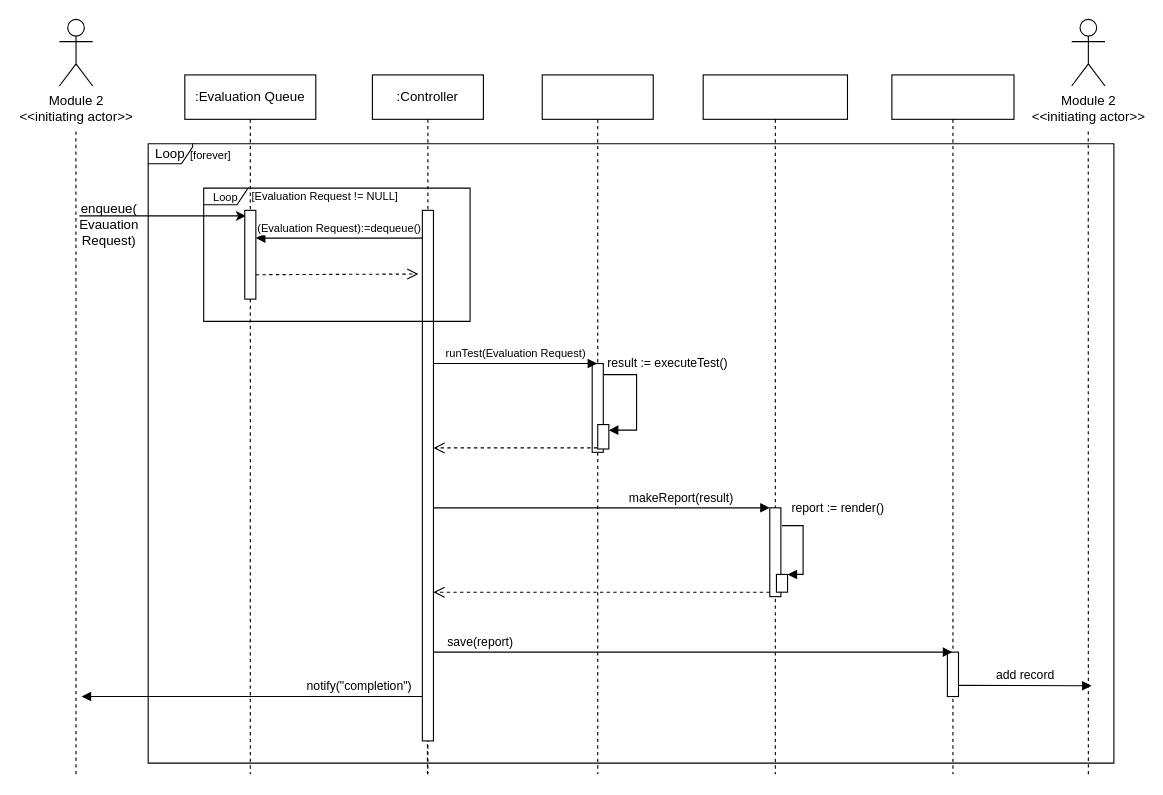
This 1163x795 diagram has some shape labels left out. Here are the shapes that lost their labels. From the top down, the box of each, then its label:
(541, 74, 653, 774): TestRunner
(702, 74, 847, 774): TestResultProcessor
(891, 74, 1014, 774): DBConnection
